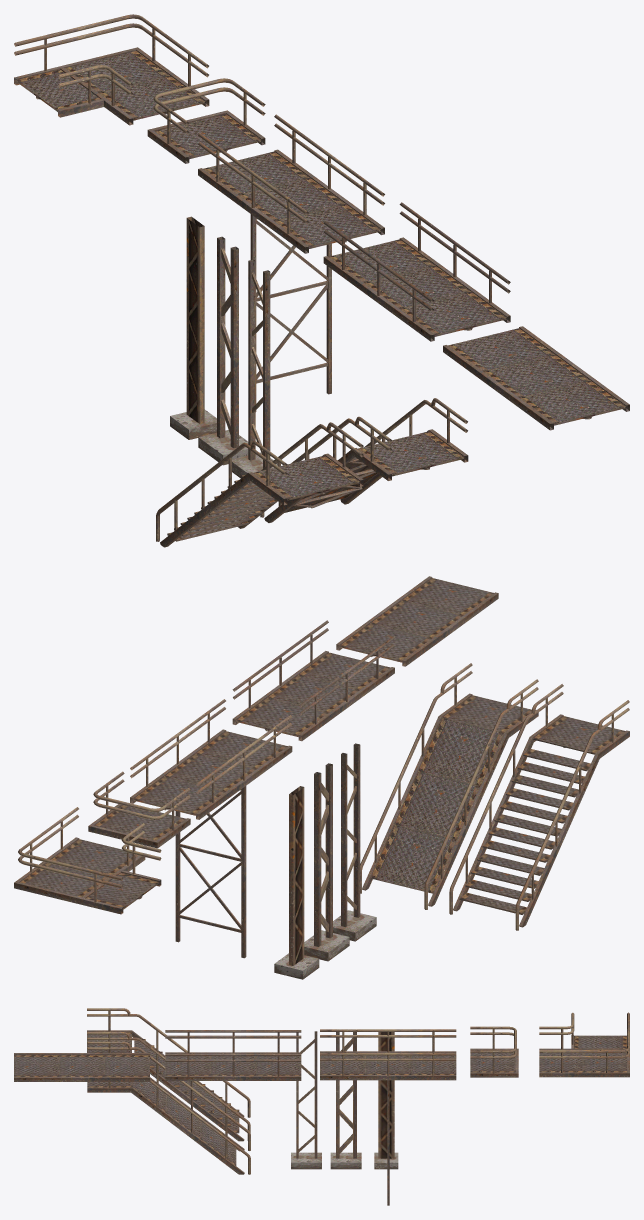
The model's file is Rails.fbx.
3 renders of one model, top to bottom at view 1: azimuth 30°, elevation 25°; view 2: azimuth 150°, elevation 25°; view 3: azimuth 270°, elevation 25°, orthographic. The views are drawn at different scales.
Visible parts, largest first — view 1: Bridges_3, Bridges_2, Bridges_turn, Bridges_1, Bridges_stairs_1, Bridges_stairs_2, Bridges_support_3, Bridges_end, Bridges_support_1, Bridges_support_2; view 2: Bridges_stairs_2, Bridges_stairs_1, Bridges_3, Bridges_2, Bridges_turn, Bridges_1, Bridges_support_3, Bridges_support_2, Bridges_support_1, Bridges_end; view 3: Bridges_3, Bridges_2, Bridges_stairs_2, Bridges_stairs_1, Bridges_1, Bridges_turn, Bridges_end, Bridges_support_1, Bridges_support_3, Bridges_support_2.
Boxes of the visible parts, x1,y1,x2,y2 form: Bridges_3: (198, 114, 384, 411); Bridges_2: (323, 202, 510, 341); Bridges_turn: (14, 14, 209, 125); Bridges_1: (443, 326, 629, 430); Bridges_stairs_1: (156, 422, 363, 547); Bridges_stairs_2: (260, 398, 468, 522); Bridges_support_3: (198, 236, 248, 465); Bridges_end: (147, 78, 265, 163); Bridges_support_1: (170, 216, 216, 439); Bridges_support_2: (232, 259, 277, 478); Bridges_stairs_2: (360, 663, 538, 909); Bridges_stairs_1: (449, 684, 629, 930); Bridges_3: (130, 699, 292, 958); Bridges_2: (232, 620, 394, 741); Bridges_turn: (14, 807, 161, 914); Bridges_1: (336, 576, 498, 666); Bridges_support_3: (304, 763, 349, 961); Bridges_support_2: (333, 743, 376, 941); Bridges_support_1: (274, 786, 319, 979); Bridges_end: (88, 771, 190, 848); Bridges_3: (320, 1029, 456, 1205); Bridges_2: (165, 1030, 301, 1080); Bridges_stairs_2: (87, 1041, 250, 1174); Bridges_stairs_1: (87, 1008, 250, 1141); Bridges_1: (14, 1053, 149, 1081); Bridges_turn: (539, 1012, 629, 1077); Bridges_end: (470, 1026, 518, 1077); Bridges_support_1: (374, 1032, 398, 1169); Bridges_support_3: (330, 1032, 361, 1169); Bridges_support_2: (291, 1031, 321, 1169).
Size of the model in its own units: 756 by 612 by 2199.
2 materials, 2 textured.
